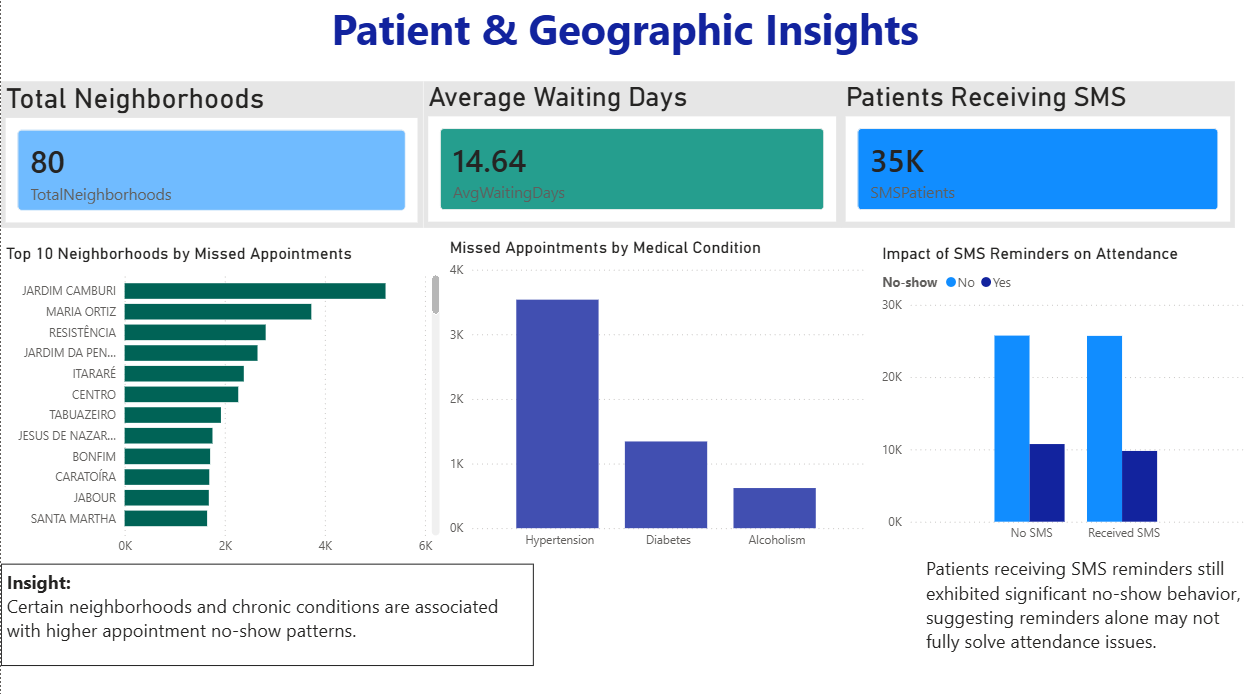

What the dashboard file says about the page in this screenshot:
{"tool":"powerbi","page":{"name":"Page 2","canvas":[1280,720],"ordinal":1},"visuals":[{"type":"textbox","box":[0,0,1280,67.1],"z":0},{"type":"cardVisual","title":"Total Neighborhoods","fields":{"Data":["Appointments.TotalNeighborhoods"]},"box":[0,88.6,432.9,150],"z":1},{"type":"cardVisual","title":"Average Waiting Days","fields":{"Data":["Appointments.AvgWaitingDays"]},"box":[432.9,88.6,428.6,150],"z":2},{"type":"cardVisual","title":"Patients Receiving SMS","fields":{"Data":["Appointments.SMSPatients"]},"box":[861.4,88.6,404.3,150],"z":3},{"type":"clusteredBarChart","title":"Top 10 Neighborhoods by Missed Appointments","fields":{"Category":["Appointments.Neighbourhood"],"Y":["CountNonNull(Appointments.No-show)"]},"box":[0,255,455,328.3],"z":4},{"type":"clusteredColumnChart","title":"Missed Appointments by Medical Condition","fields":{"Category":["Conditions.Condition"],"Y":["Appointments.ConditionNoShow"]},"box":[455,248.3,435,328.3],"z":5},{"type":"clusteredColumnChart","title":"Impact of SMS Reminders on Attendance","fields":{"Y":["CountNonNull(Appointments.AppointmentID)"],"Series":["Appointments.No-show"],"Category":["Appointments.SMSStatus"]},"box":[898.3,255,381.7,315],"z":6},{"type":"textbox","box":[943.3,570,336.7,150],"z":7},{"type":"textbox","box":[0,583.3,546.7,105],"z":8}]}

Visuals, with their boxes in screenshot pixels (x1, y1, x2, y2), scaled from the page's 1280x720 canvas onto the 1249x694 screenshot:
textbox: <bbox>0, 0, 1248, 65</bbox>
"Total Neighborhoods" cardVisual: <bbox>0, 85, 422, 230</bbox>
"Average Waiting Days" cardVisual: <bbox>422, 85, 841, 230</bbox>
"Patients Receiving SMS" cardVisual: <bbox>841, 85, 1235, 230</bbox>
"Top 10 Neighborhoods by Missed Appointments" clusteredBarChart: <bbox>0, 246, 444, 562</bbox>
"Missed Appointments by Medical Condition" clusteredColumnChart: <bbox>444, 239, 868, 556</bbox>
"Impact of SMS Reminders on Attendance" clusteredColumnChart: <bbox>877, 246, 1248, 549</bbox>
textbox: <bbox>920, 549, 1248, 693</bbox>
textbox: <bbox>0, 562, 533, 663</bbox>
